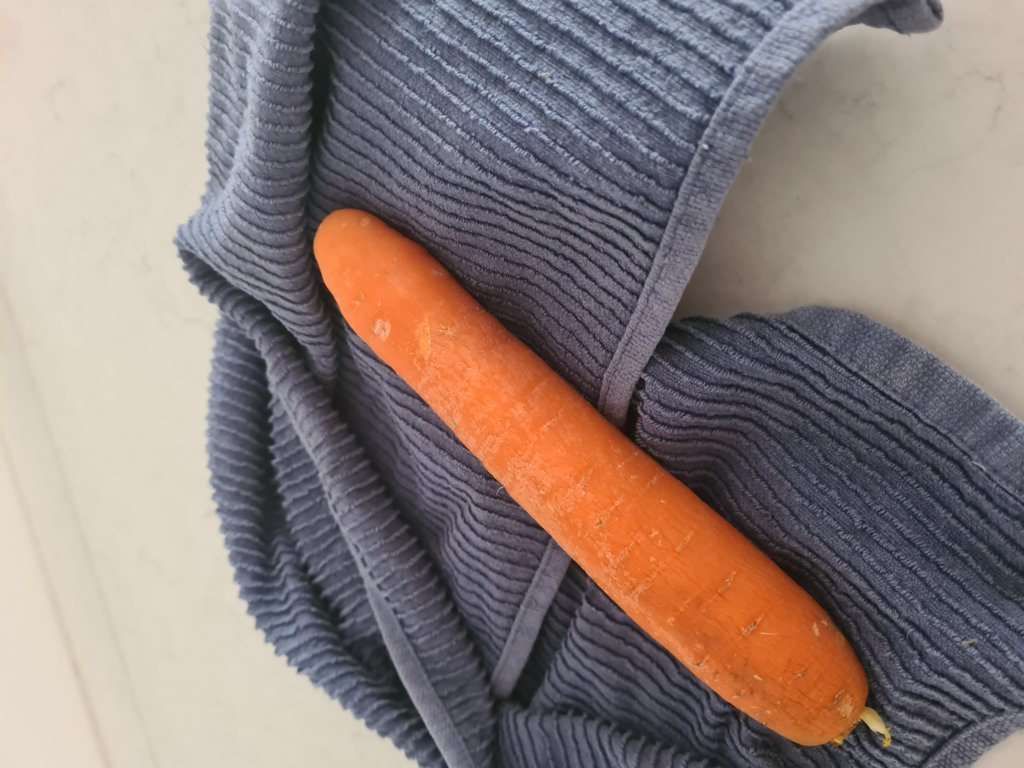carrot: (311, 203, 866, 742)
